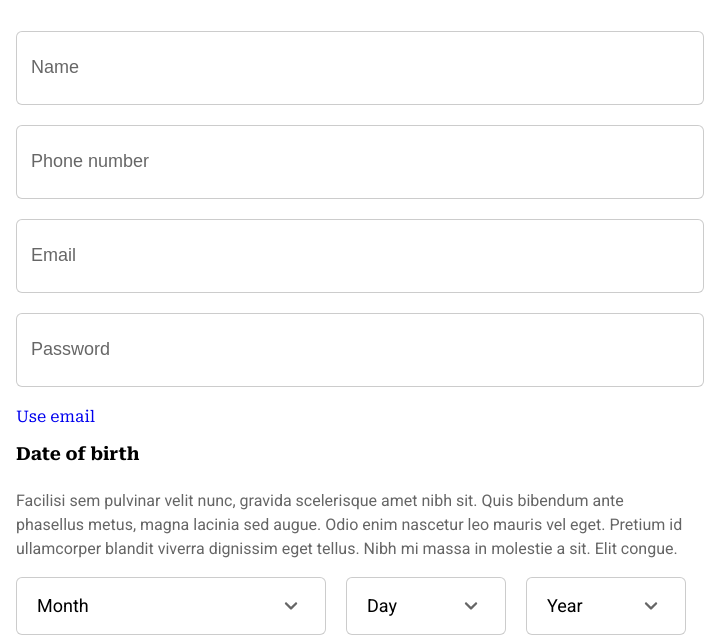
Test: registration page › should change day
This screenshot has width=721, height=643.
Click the text "Day". click: (426, 606)
box: [346, 577, 506, 635]
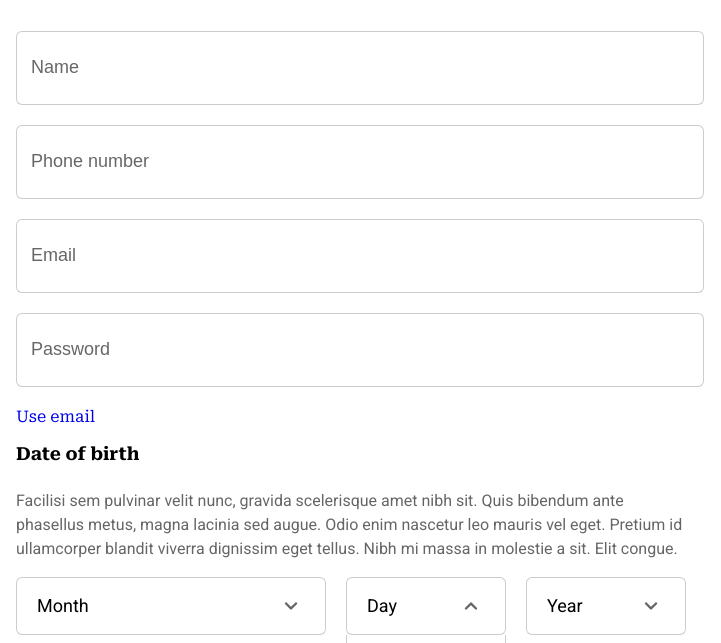
Scroll
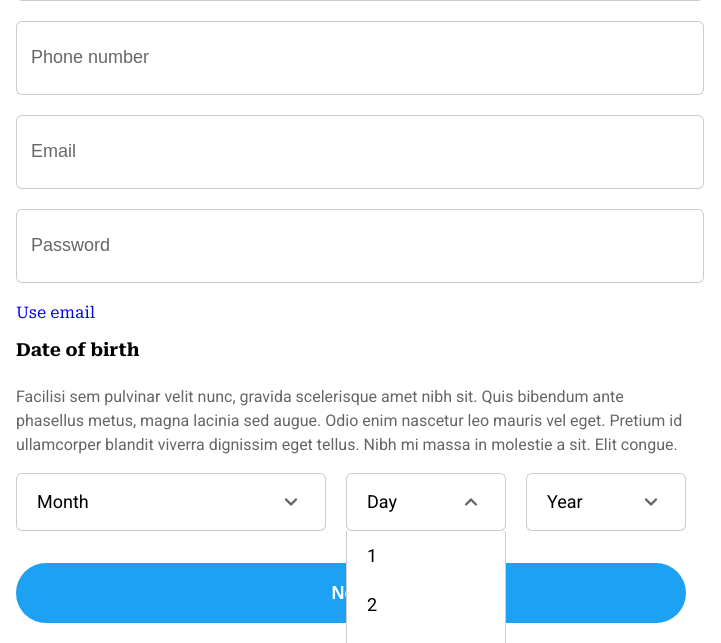
Click the list item "1". click: (372, 556)
box: [367, 545, 377, 566]
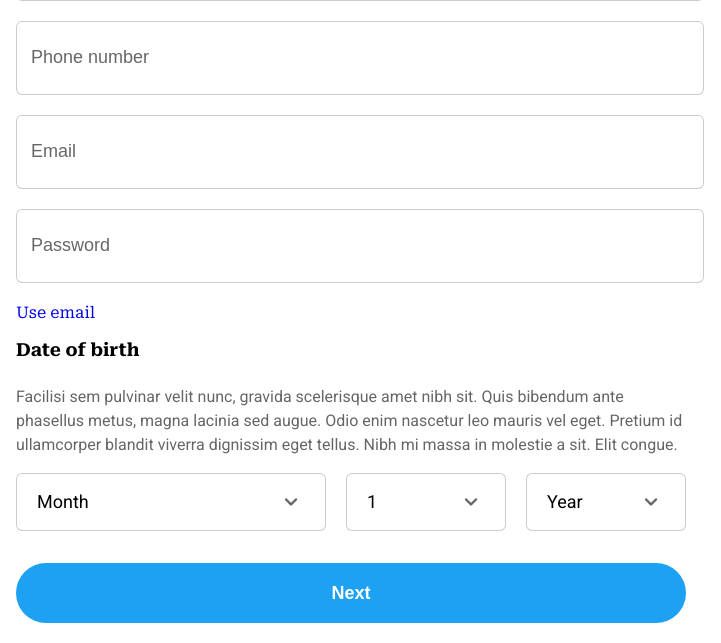
Expected: the text "1" is shown, [346, 472, 506, 530]
